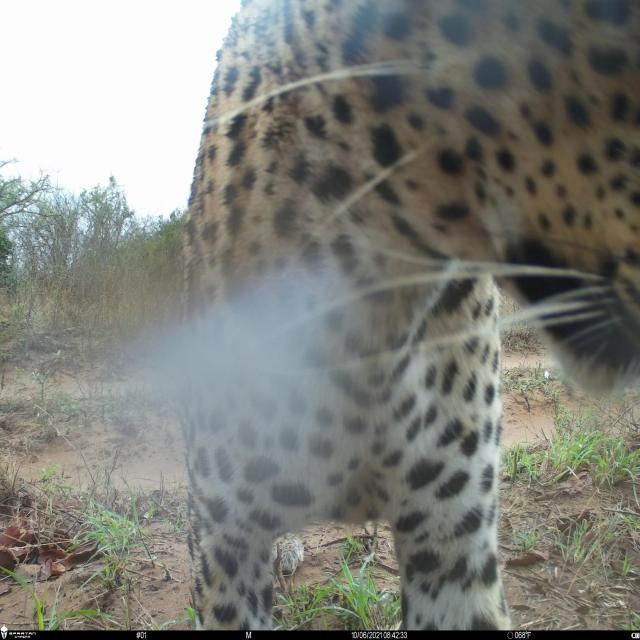Leopard: (100, 4, 628, 639)
